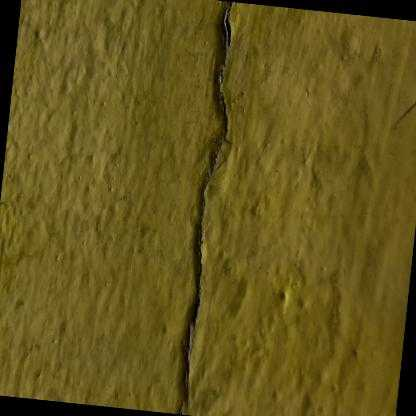crack: (195, 132, 222, 317), (217, 1, 232, 131), (186, 321, 190, 407), (180, 401, 183, 414)
